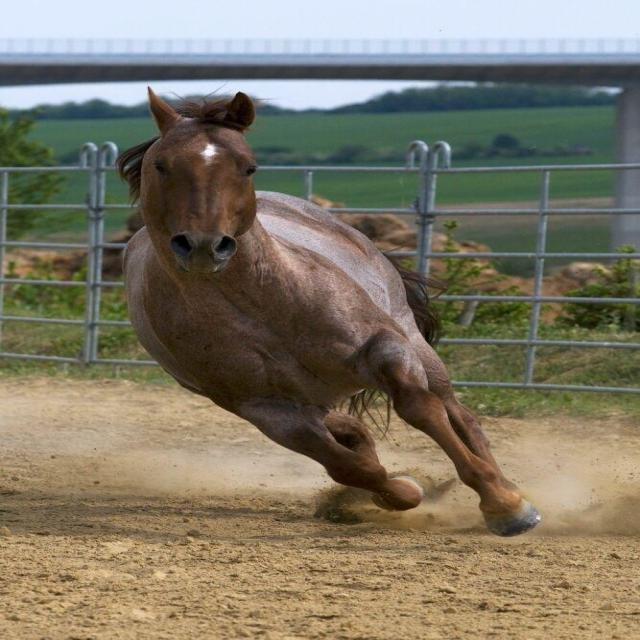horse: (115, 84, 541, 537)
